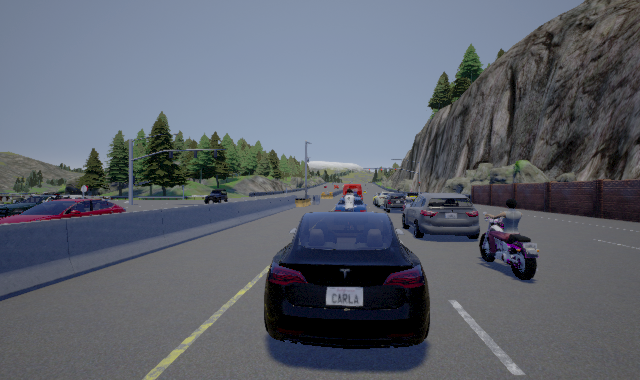bike: (342, 187, 356, 213)
motobike: (480, 202, 542, 281)
vehicle: (265, 184, 431, 349), (1, 194, 126, 224), (401, 195, 482, 240), (204, 189, 228, 204)
